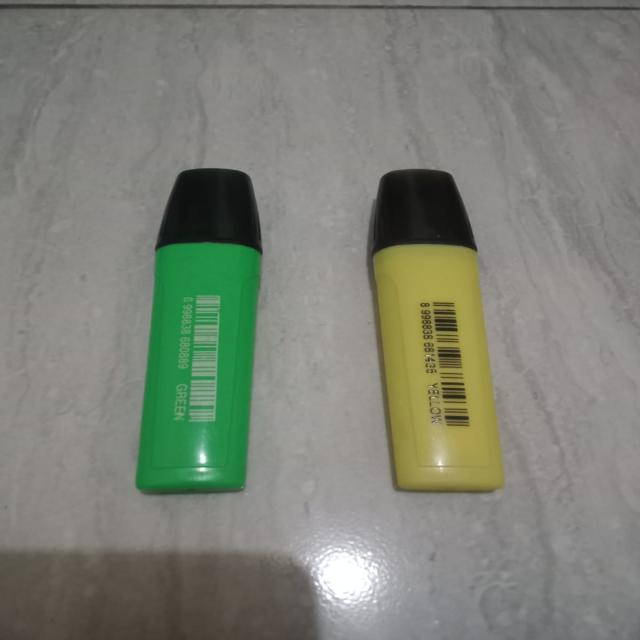highlighter: (349, 148, 531, 502), (117, 156, 283, 510)
